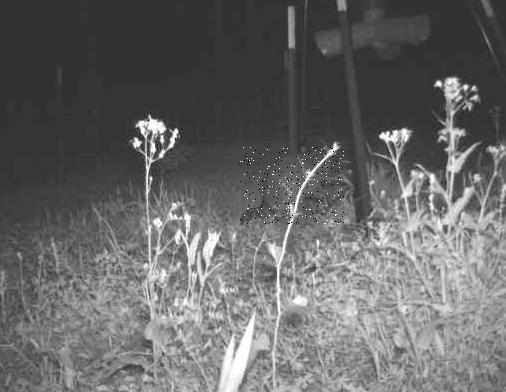Raccoon: (239, 147, 344, 224)
